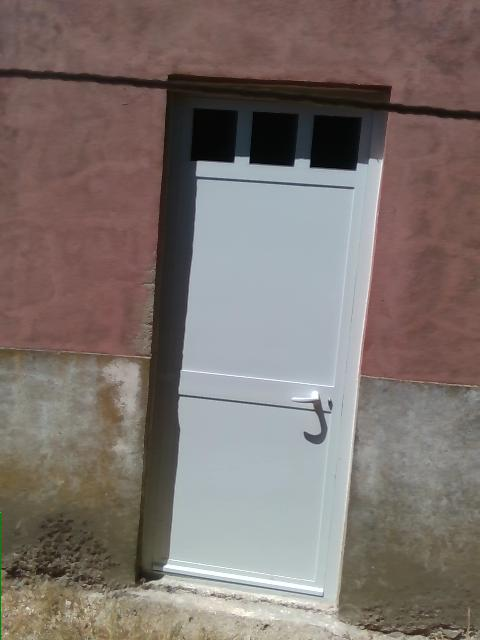door: (132, 73, 392, 613)
